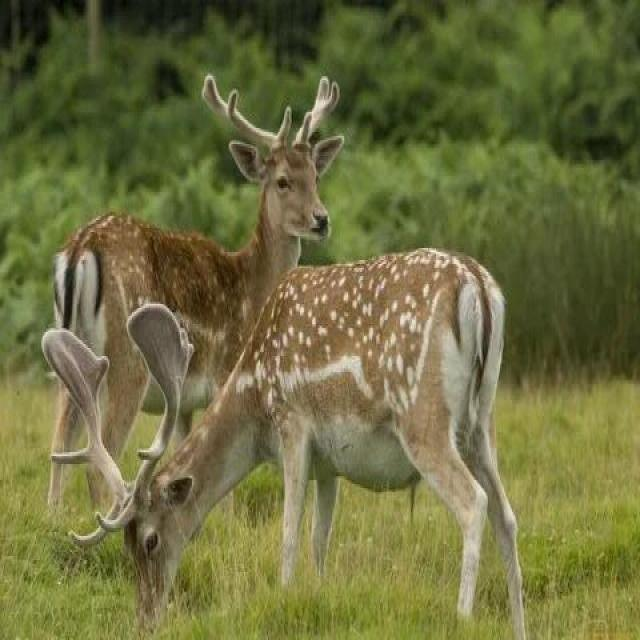deer: (143, 219, 480, 578)
